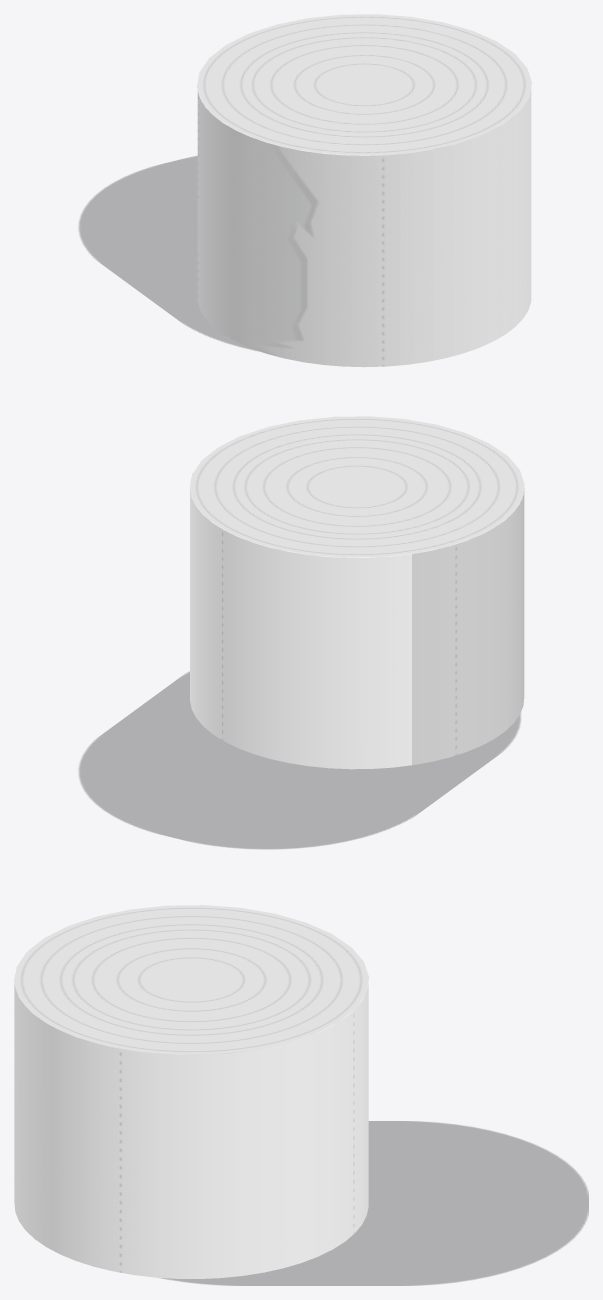
The model's file is block_28.glb.
The picture shows the model from 3 angles, top to bottom: view 1: azimuth 30°, elevation 25°; view 2: azimuth 150°, elevation 25°; view 3: azimuth 270°, elevation 25°; orthographic projection. The views are drawn at different scales.
Parts seen in each view (by area): view 1: hitObj, block; view 2: hitObj, block; view 3: hitObj, block.
Part boxes in pixels (left/top/right/bottom): hitObj: left=197, top=14, right=531, bottom=367; block: left=79, top=156, right=256, bottom=350; hitObj: left=189, top=416, right=524, bottom=769; block: left=79, top=672, right=520, bottom=848; hitObj: left=14, top=905, right=368, bottom=1278; block: left=162, top=1121, right=588, bottom=1285.
Bounding box in the file's own units: 8.68 × 5.54 × 12.81.
Materials: 3 (3 with a texture image).
